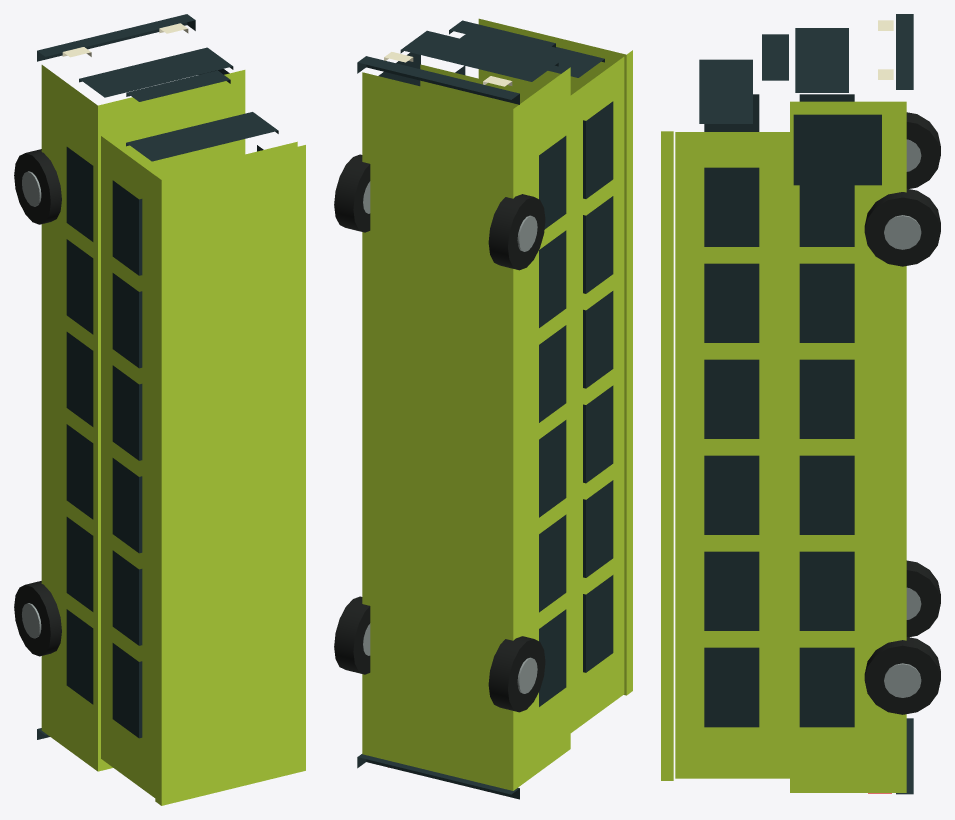
The model's file is generic-double-decker.glb.
3 renders of one model, left to right at view 1: azimuth 30°, elevation 25°; view 2: azimuth 150°, elevation 25°; view 3: azimuth 270°, elevation 25°, orthographic. The views are drawn at different scales.
Visible parts, largest first — view 1: Roof, Lower body, Upper body, Wheel (×2), Front lower windscreen, Front upper windscreen, upper window -1 0, upper window -1 1, upper window -1 3, upper window -1 4, upper window -1 2, upper window -1 5 (+9 smaller); view 2: Lower body, Upper body, Wheel (×4), Roof, Front lower windscreen, upper window -1 1, upper window -1 2, upper window -1 0, upper window -1 3, upper window -1 5, upper window -1 4, lower window -1 1 (+10 smaller); view 3: Upper body, Lower body, Wheel (×4), Roof, Front door glass, lower window 1 0, upper window 1 0, lower window 1 1, lower window 1 2, lower window 1 3, lower window 1 4, upper window 1 1 (+12 smaller).
Part boxes in pixels (x1,y1,x2,y2): Roof: [155, 145, 305, 805]; Lower body: [41, 65, 245, 771]; Upper body: [101, 136, 297, 797]; Wheel (×2): [14, 149, 61, 656]; Front lower windscreen: [79, 47, 233, 97]; Front upper windscreen: [126, 112, 278, 161]; upper window -1 0: [112, 643, 142, 738]; upper window -1 1: [112, 550, 142, 645]; upper window -1 3: [112, 365, 142, 460]; upper window -1 4: [112, 273, 142, 368]; upper window -1 2: [112, 458, 142, 553]; upper window -1 5: [112, 180, 142, 275]; Lower body: [362, 67, 570, 790]; Upper body: [420, 57, 624, 732]; Wheel (×4): [334, 154, 545, 712]; Roof: [478, 18, 632, 695]; Front lower windscreen: [400, 30, 558, 81]; upper window -1 1: [583, 480, 613, 577]; upper window -1 2: [583, 385, 613, 483]; upper window -1 0: [583, 575, 613, 672]; upper window -1 3: [583, 291, 613, 388]; upper window -1 5: [583, 101, 613, 198]; upper window -1 4: [583, 196, 613, 293]; lower window -1 1: [539, 514, 566, 612]; Upper body: [675, 132, 789, 778]; Lower body: [790, 101, 906, 792]; Wheel (×4): [864, 112, 940, 714]; Roof: [661, 131, 673, 780]; Front door glass: [793, 114, 881, 185]; lower window 1 0: [799, 647, 854, 727]; upper window 1 0: [704, 647, 759, 727]; lower window 1 1: [799, 551, 854, 630]; lower window 1 2: [799, 455, 854, 534]; lower window 1 3: [799, 359, 854, 438]; lower window 1 4: [799, 263, 854, 342]; upper window 1 1: [704, 551, 759, 630].
Size of the model in its own units: 2.94 by 11.25 by 3.96.
